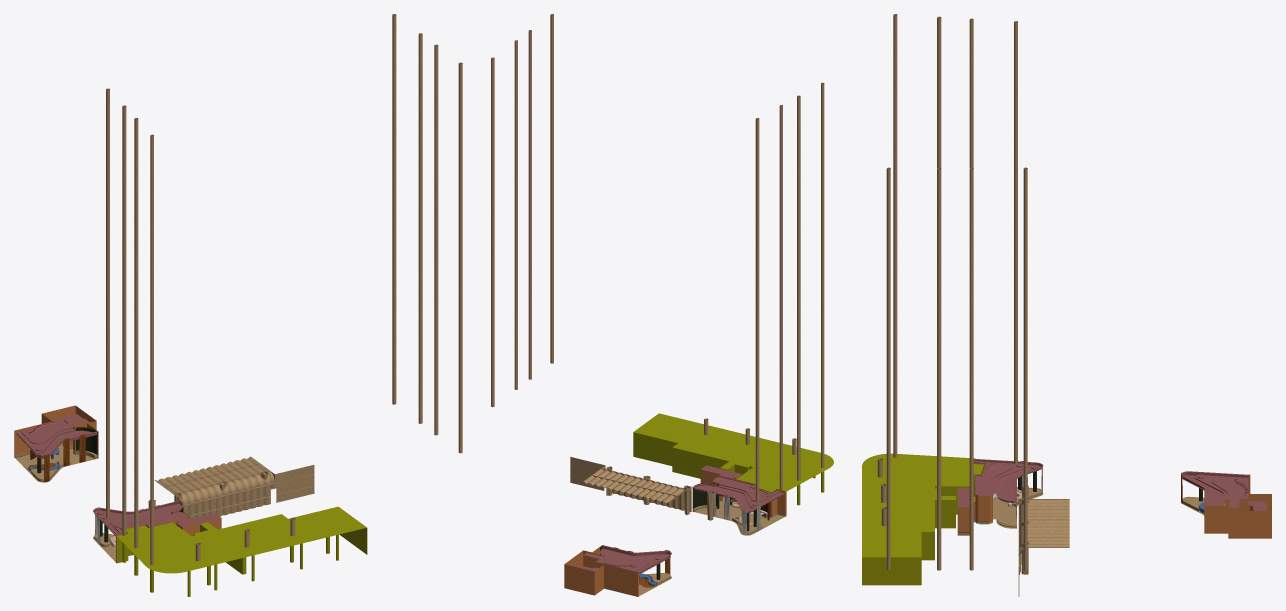
File: Kemp_ARFile_Edist_Lobby_LobbyAssets_14.09.2026.fbx
The picture shows the model from 3 angles, left to right: view 1: azimuth 30°, elevation 25°; view 2: azimuth 150°, elevation 25°; view 3: azimuth 270°, elevation 25°; orthographic projection. The views are drawn at different scales.
Parts seen in each view (by area): view 1: SM_Metal_01_Build_02, SM_SouthLobbySTR_06, SM_SouthLobbySTR_01, SM_NorthLobbySTR_01, SM_NorthLobbySTR_04, SM_NorthLobbySTR_02, SM_NorthLobbyASSET_02; view 2: SM_Metal_01_Build_02, SM_SouthLobbySTR_06, SM_NorthLobbySTR_04, SM_SouthLobbySTR_01, SM_NorthLobbySTR_01, SM_SouthLobbySTR_02, SM_SouthLobbySTR_04, SM_SouthLobbyASSET_04, SM_SouthLobbySTR_05; view 3: SM_Metal_01_Build_02, SM_SouthLobbySTR_06, SM_NorthLobbySTR_04, SM_SouthLobbySTR_01, SM_NorthLobbySTR_01, SM_SouthLobbySTR_04, SM_SouthLobbySTR_02.
Part boxes in pixels (x1,y1,x2,y2): SM_Metal_01_Build_02: (106,14,462,565); SM_SouthLobbySTR_06: (116,506,367,596); SM_SouthLobbySTR_01: (93,500,221,535); SM_NorthLobbySTR_01: (15,414,96,458); SM_NorthLobbySTR_04: (14,405,98,458); SM_NorthLobbySTR_02: (14,443,97,482); SM_NorthLobbyASSET_02: (27,434,85,482); SM_Metal_01_Build_02: (491,14,824,520); SM_SouthLobbySTR_06: (633,413,833,505); SM_NorthLobbySTR_04: (564,545,638,596); SM_SouthLobbySTR_01: (692,465,784,512); SM_NorthLobbySTR_01: (571,545,671,574); SM_SouthLobbySTR_02: (692,496,786,535); SM_SouthLobbySTR_04: (700,469,786,515); SM_SouthLobbyASSET_04: (712,491,760,535); SM_SouthLobbySTR_05: (692,483,756,531); SM_Metal_01_Build_02: (877,14,1069,596); SM_SouthLobbySTR_06: (862,453,983,585); SM_NorthLobbySTR_04: (1204,474,1271,538); SM_SouthLobbySTR_01: (957,459,1043,507); SM_NorthLobbySTR_01: (1181,471,1267,510); SM_SouthLobbySTR_04: (957,458,992,532); SM_SouthLobbySTR_02: (957,487,1043,535).
Bounding box in the file's own units: 5572 × 7737 × 6108.
